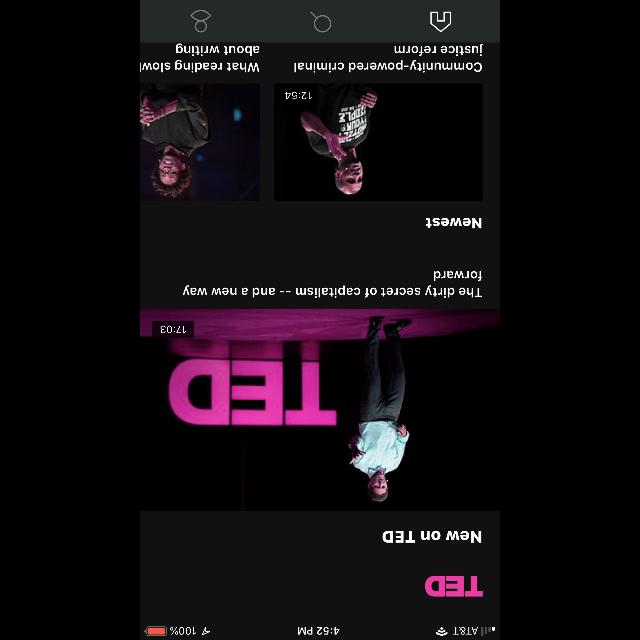icon: (190, 10, 212, 32), (310, 12, 332, 32), (431, 12, 452, 32)
image: (140, 309, 500, 511), (274, 84, 482, 200), (140, 84, 260, 200)
text: (182, 270, 482, 298), (294, 44, 482, 72), (140, 45, 260, 73), (382, 530, 482, 542), (426, 576, 482, 596), (426, 218, 480, 228), (160, 325, 186, 333), (285, 92, 311, 100)
uppertaskbar: (140, 626, 500, 640)
